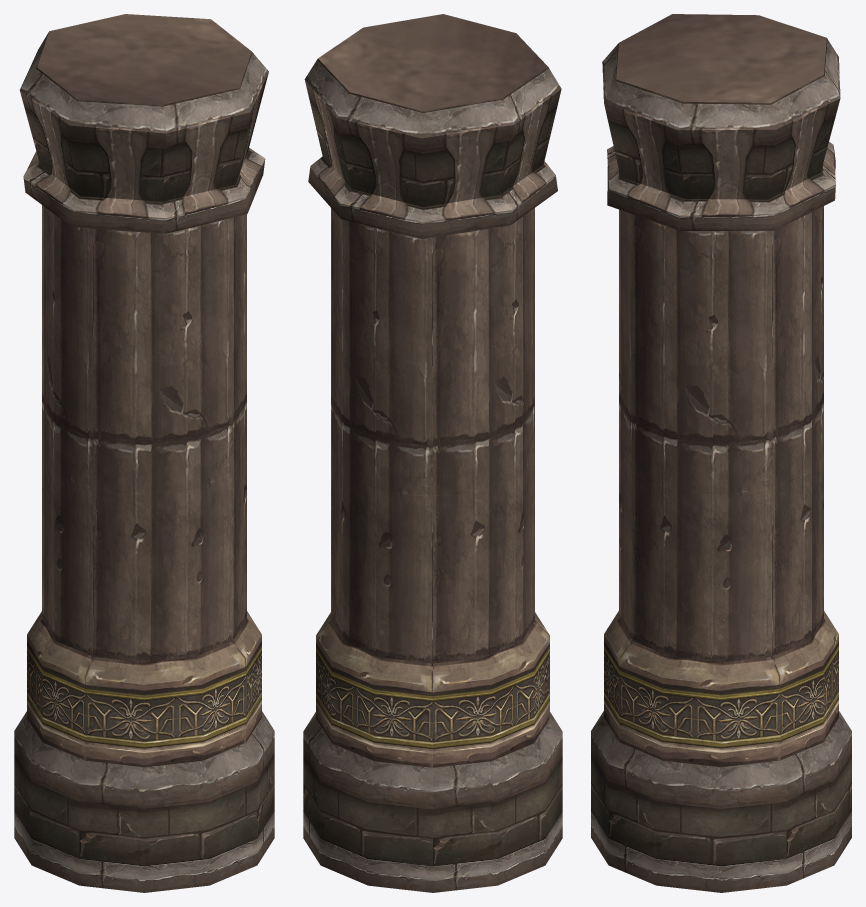
The model's file is a02_pillar_b.FBX.
3 renders of one model, left to right at view 1: azimuth 30°, elevation 25°; view 2: azimuth 150°, elevation 25°; view 3: azimuth 270°, elevation 25°, orthographic.
Parts seen in each view (by area): view 1: a02_pillar_b; view 2: a02_pillar_b; view 3: a02_pillar_b.
Boxes of the visible parts, left/top/right/bottom form: a02_pillar_b: left=14, top=14, right=274, bottom=892; a02_pillar_b: left=303, top=14, right=562, bottom=892; a02_pillar_b: left=591, top=14, right=851, bottom=892.
Bounding box in the file's own units: 1.72 × 5.66 × 1.72.
